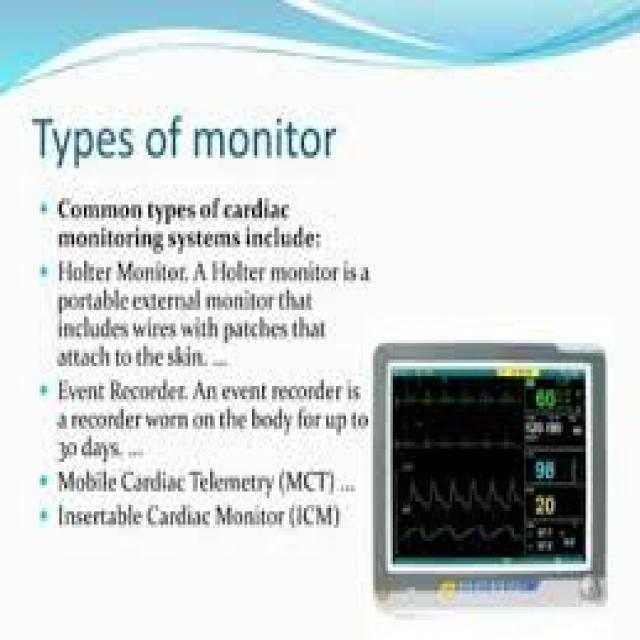cardiac_monitor: (379, 349, 618, 605)
